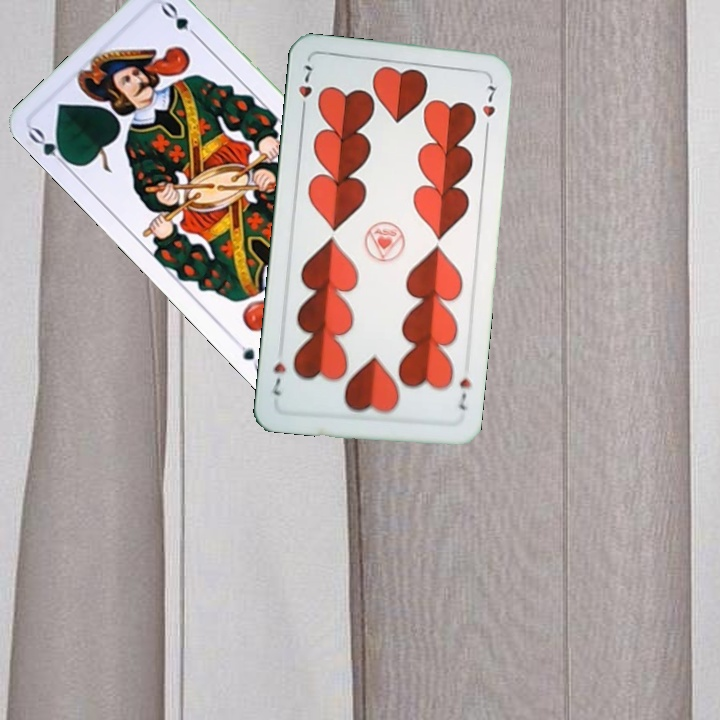GO: (24, 123, 75, 172)
H7: (294, 61, 315, 117), (456, 374, 474, 413)
